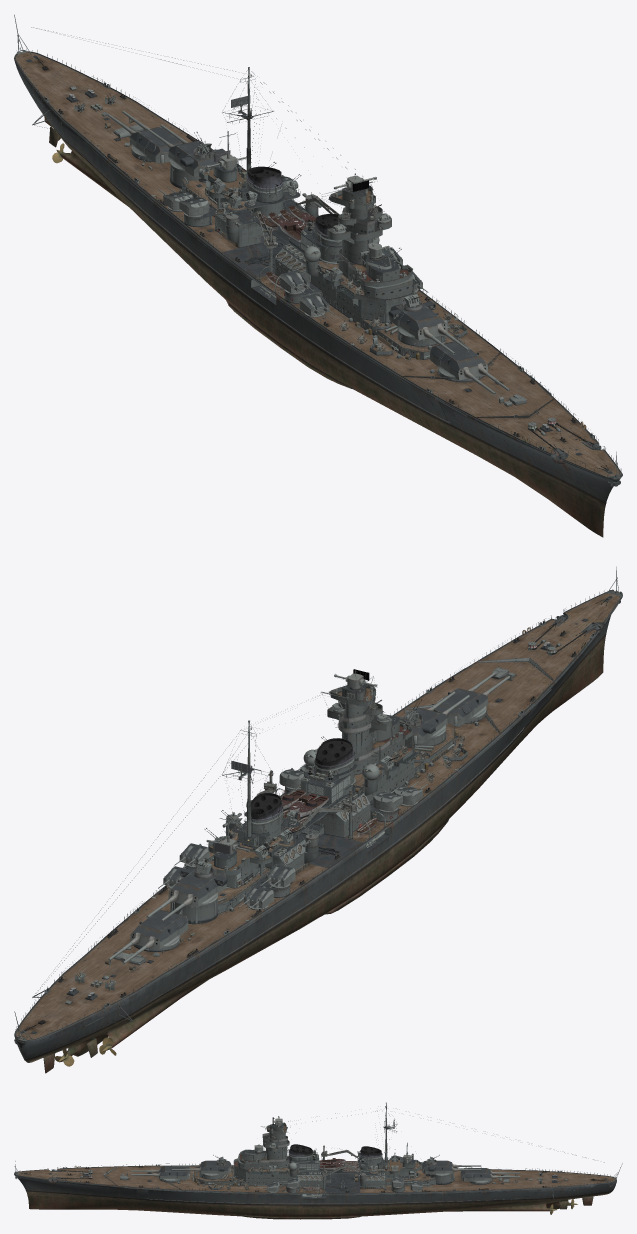
File: the_third_reich_navy_large_cruiser_hildebrand-maximum-compressed.glb
3 views of the same model, one above another, from view 1: azimuth 30°, elevation 25°; view 2: azimuth 150°, elevation 25°; view 3: azimuth 270°, elevation 25° (orthographic). The views are drawn at different scales.
Visible parts, largest first — view 1: GSC022_Siegfried_1945_midfront_gsc022_siegfried_1945_272_0, GSC022_Siegfried_1945_bow_gsc022_siegfried_1945_272_0, GSC022_Siegfried_1945_midback_gsc022_siegfried_1945_272_0, object 458, GSC022_Siegfried_1945_stern_gsc022_siegfried_1945_272_0, GSC022_Siegfried_1945_midback_gsc022_siegfried_1945_deckhous, ggm060_380mm_skc_34_ggm059_380mm_skc_34_rf_skinned_184_0, ggm059_380mm_skc_34_rf1_ggm059_380mm_skc_34_rf_skinned_184_0, ggm060_380mm_skc_035_ggm059_380mm_skc_34_rf_skinned_184_0, ggm059_380mm_skc_34_rf002_ggm059_380mm_skc_34_rf_skinned_184, object 460, GSB006_Grossdeutschland_1945_midback001_Grosser_Kurfurst_gsb; view 2: GSC022_Siegfried_1945_midfront_gsc022_siegfried_1945_272_0, GSC022_Siegfried_1945_midback_gsc022_siegfried_1945_272_0, GSC022_Siegfried_1945_bow_gsc022_siegfried_1945_272_0, GSC022_Siegfried_1945_stern_gsc022_siegfried_1945_272_0, GSC022_Siegfried_1945_midback_gsc022_siegfried_1945_deckhous (×2), object 458, object 460, ggm060_380mm_skc_035_ggm059_380mm_skc_34_rf_skinned_184_0, ggm059_380mm_skc_34_rf002_ggm059_380mm_skc_34_rf_skinned_184, GSB006_Grossdeutschland_1945_midback001_Grosser_Kurfurst_gsb, ggm060_380mm_skc_34_ggm059_380mm_skc_34_rf_skinned_184_0, ggm059_380mm_skc_34_rf1_ggm059_380mm_skc_34_rf_skinned_184_0 (+1 smaller); view 3: GSC022_Siegfried_1945_midfront_gsc022_siegfried_1945_272_0, GSC022_Siegfried_1945_midback_gsc022_siegfried_1945_272_0, GSC022_Siegfried_1945_bow_gsc022_siegfried_1945_272_0, GSC022_Siegfried_1945_stern_gsc022_siegfried_1945_272_0, object 458, GSC022_Siegfried_1945_midback_gsc022_siegfried_1945_deckhous, object 460, ggm060_380mm_skc_035_ggm059_380mm_skc_34_rf_skinned_184_0, ggm060_380mm_skc_34_ggm059_380mm_skc_34_rf_skinned_184_0, ggm059_380mm_skc_34_rf1_ggm059_380mm_skc_34_rf_skinned_184_0, ggm059_380mm_skc_34_rf002_ggm059_380mm_skc_34_rf_skinned_184, GSB006_Grossdeutschland_1945_midback001_Grosser_Kurfurst_gsb (+1 smaller).
Boxes of the visible parts, <box> form: GSC022_Siegfried_1945_midfront_gsc022_siegfried_1945_272_0: <box>222,190,539,455</box>; GSC022_Siegfried_1945_bow_gsc022_siegfried_1945_272_0: <box>435,375,622,537</box>; GSC022_Siegfried_1945_midback_gsc022_siegfried_1945_272_0: <box>61,101,318,304</box>; object 458: <box>322,181,412,299</box>; GSC022_Siegfried_1945_stern_gsc022_siegfried_1945_272_0: <box>14,14,135,166</box>; GSC022_Siegfried_1945_midback_gsc022_siegfried_1945_deckhous: <box>181,69,308,247</box>; ggm060_380mm_skc_34_ggm059_380mm_skc_34_rf_skinned_184_0: <box>430,340,510,394</box>; ggm059_380mm_skc_34_rf1_ggm059_380mm_skc_34_rf_skinned_184_0: <box>388,301,469,354</box>; ggm060_380mm_skc_035_ggm059_380mm_skc_34_rf_skinned_184_0: <box>108,110,182,163</box>; ggm059_380mm_skc_34_rf002_ggm059_380mm_skc_34_rf_skinned_184: <box>146,124,225,176</box>; object 460: <box>300,214,341,262</box>; GSB006_Grossdeutschland_1945_midback001_Grosser_Kurfurst_gsb: <box>199,131,246,208</box>; GSC022_Siegfried_1945_midfront_gsc022_siegfried_1945_272_0: <box>240,676,540,913</box>; GSC022_Siegfried_1945_midback_gsc022_siegfried_1945_272_0: <box>63,801,340,1040</box>; GSC022_Siegfried_1945_bow_gsc022_siegfried_1945_272_0: <box>435,566,622,742</box>; GSC022_Siegfried_1945_stern_gsc022_siegfried_1945_272_0: <box>14,974,136,1073</box>; GSC022_Siegfried_1945_midback_gsc022_siegfried_1945_deckhous (×2): <box>33,722,339,997</box>; object 458: <box>321,676,413,775</box>; object 460: <box>301,738,357,805</box>; ggm060_380mm_skc_035_ggm059_380mm_skc_34_rf_skinned_184_0: <box>108,910,188,964</box>; ggm059_380mm_skc_34_rf002_ggm059_380mm_skc_34_rf_skinned_184: <box>146,868,227,921</box>; GSB006_Grossdeutschland_1945_midback001_Grosser_Kurfurst_gsb: <box>200,814,272,888</box>; ggm060_380mm_skc_34_ggm059_380mm_skc_34_rf_skinned_184_0: <box>433,672,510,724</box>; ggm059_380mm_skc_34_rf1_ggm059_380mm_skc_34_rf_skinned_184_0: <box>394,691,469,743</box>; GSC022_Siegfried_1945_midfront_gsc022_siegfried_1945_272_0: <box>136,1156,355,1219</box>; GSC022_Siegfried_1945_midback_gsc022_siegfried_1945_272_0: <box>345,1152,537,1217</box>; GSC022_Siegfried_1945_bow_gsc022_siegfried_1945_272_0: <box>14,1161,150,1210</box>; GSC022_Siegfried_1945_stern_gsc022_siegfried_1945_272_0: <box>537,1163,622,1211</box>; object 458: <box>237,1122,289,1169</box>; GSC022_Siegfried_1945_midback_gsc022_siegfried_1945_deckhous: <box>357,1103,454,1188</box>; object 460: <box>288,1144,318,1172</box>; ggm060_380mm_skc_035_ggm059_380mm_skc_34_rf_skinned_184_0: <box>460,1167,520,1183</box>; ggm060_380mm_skc_34_ggm059_380mm_skc_34_rf_skinned_184_0: <box>131,1165,190,1181</box>; ggm059_380mm_skc_34_rf1_ggm059_380mm_skc_34_rf_skinned_184_0: <box>172,1160,231,1175</box>; ggm059_380mm_skc_34_rf002_ggm059_380mm_skc_34_rf_skinned_184: <box>422,1160,481,1175</box>; GSB006_Grossdeutschland_1945_midback001_Grosser_Kurfurst_gsb: <box>385,1142,421,1179</box>.
Size of the model in its own units: 0.0204 by 0.0352 by 0.1825.
75 materials, 73 textured.
